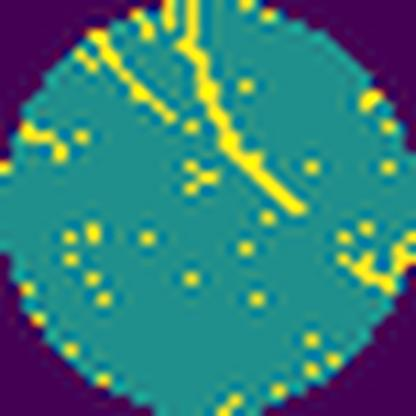Scratch: (167, 0, 310, 220), (87, 29, 182, 127)
